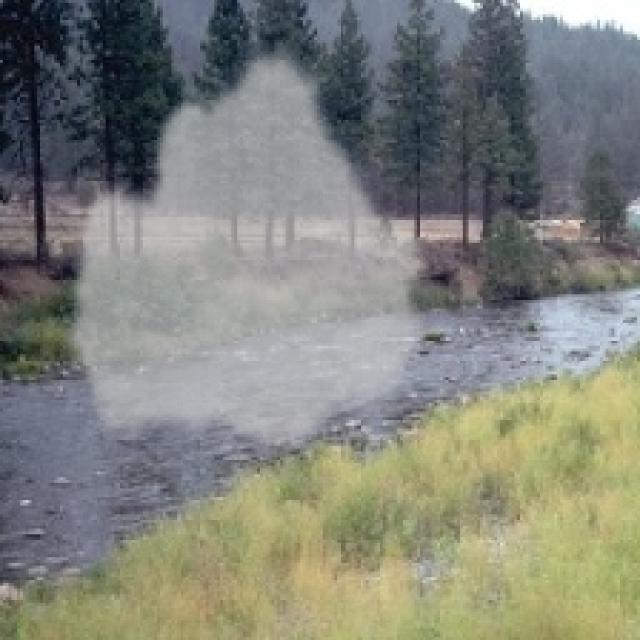smoke: (63, 37, 437, 454)
